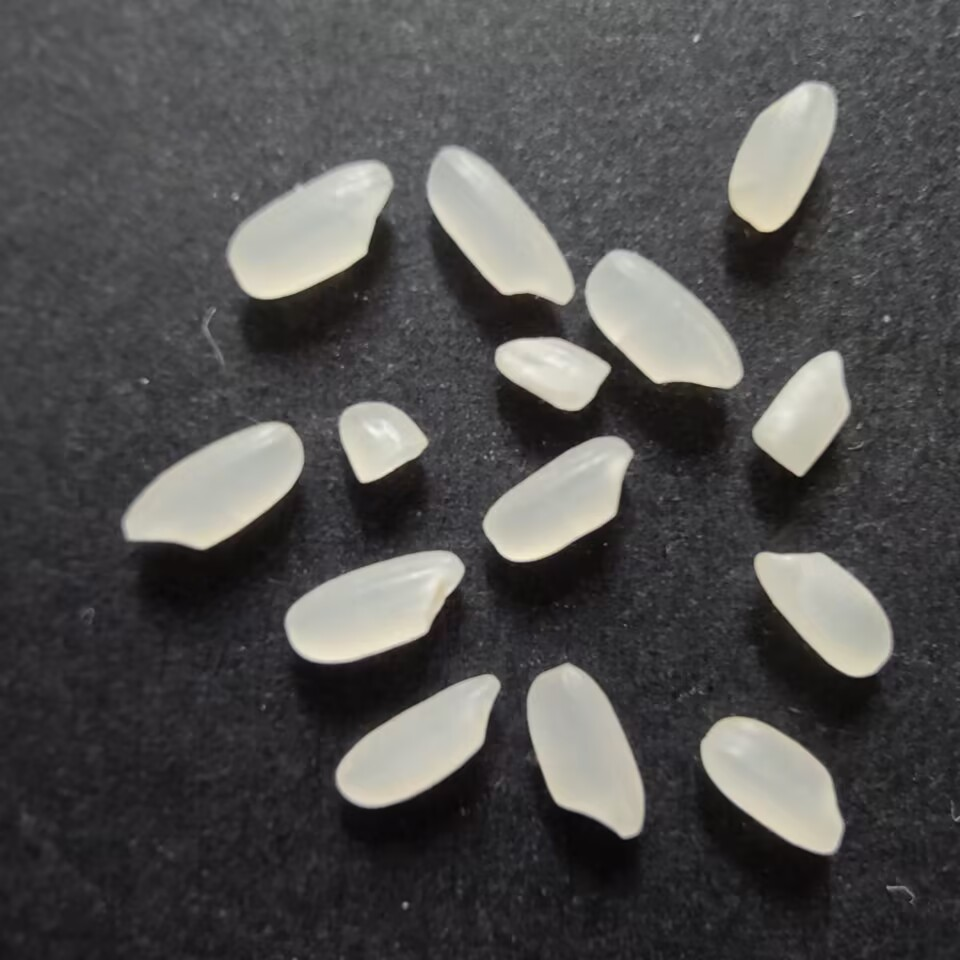broken: (750, 348, 857, 478), (488, 335, 613, 417), (332, 397, 431, 489)
rice: (117, 416, 310, 550), (226, 158, 395, 303), (427, 145, 577, 305), (334, 668, 503, 809), (582, 246, 742, 392), (523, 661, 646, 847), (280, 547, 472, 664), (697, 711, 847, 858), (481, 432, 638, 567), (747, 544, 897, 681), (726, 73, 840, 238)
